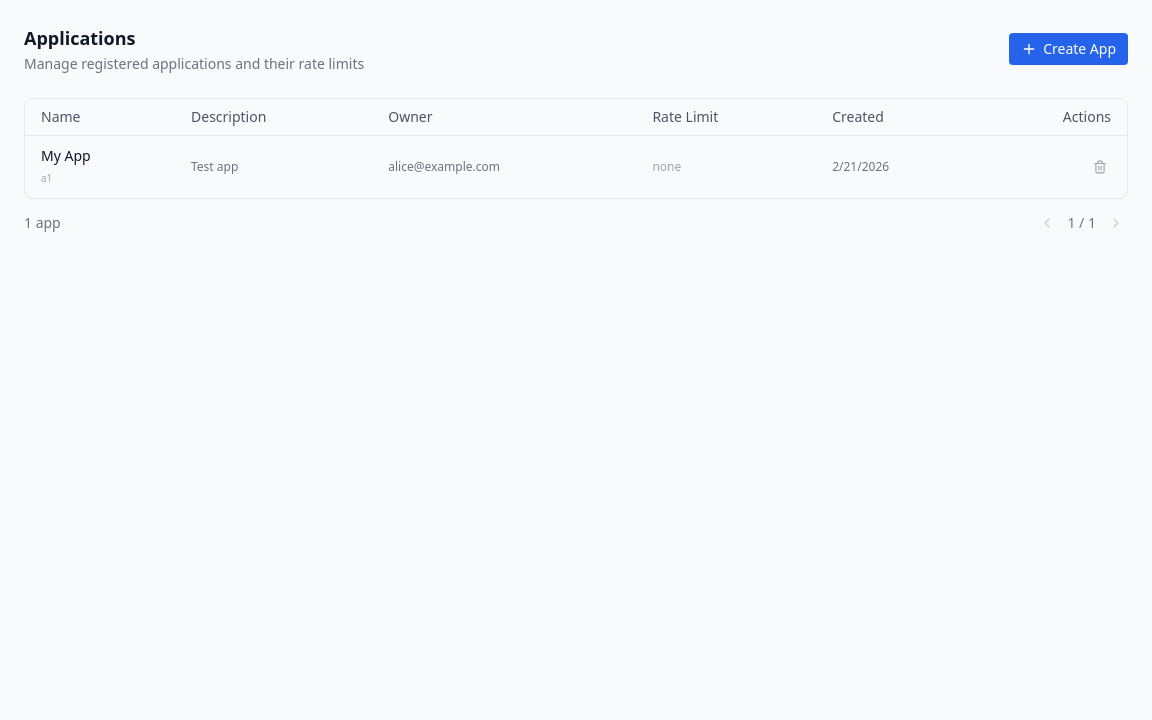
it: Apps › cancel on delete dialog closes it
The image size is (1152, 720).
Expected: the text "My App" is shown, x1=41 y1=146 x2=91 y2=165
Step 1. Click the button titled "Delete app" → (1100, 167), box x1=1089 y1=156 x2=1111 y2=178
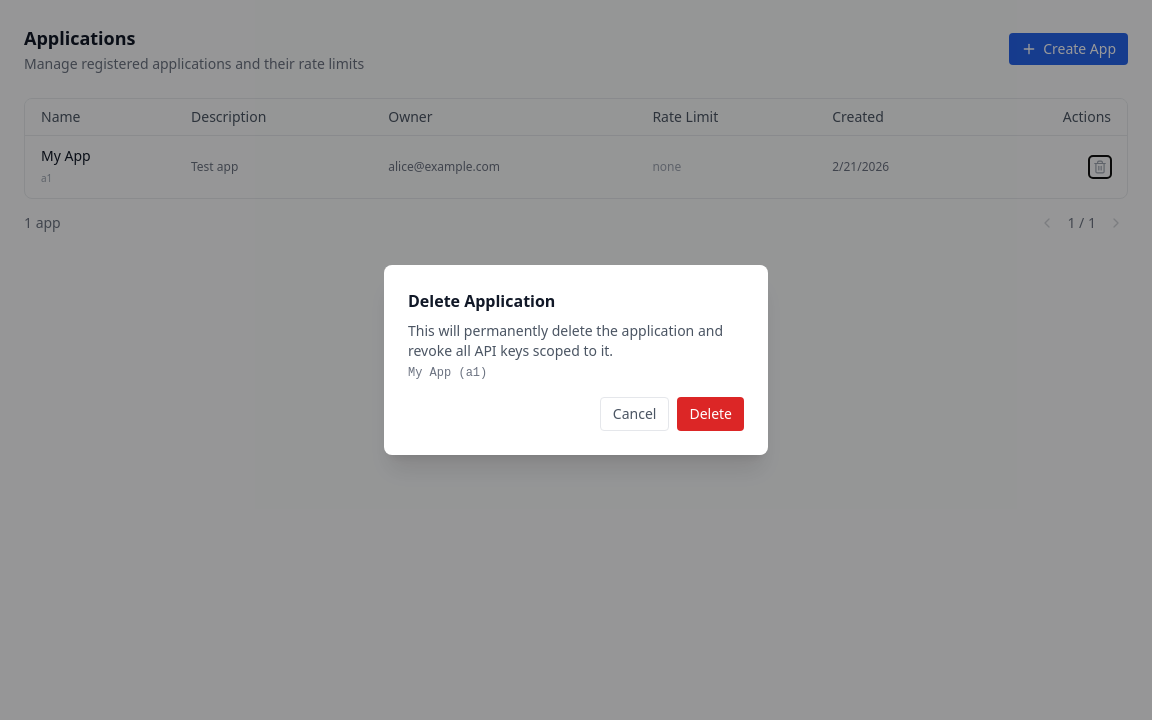
Result: the heading "Delete Application" is shown at x1=408 y1=290 x2=555 y2=312
Step 2. Click the button "Cancel" → (635, 414), box x1=600 y1=397 x2=669 y2=431
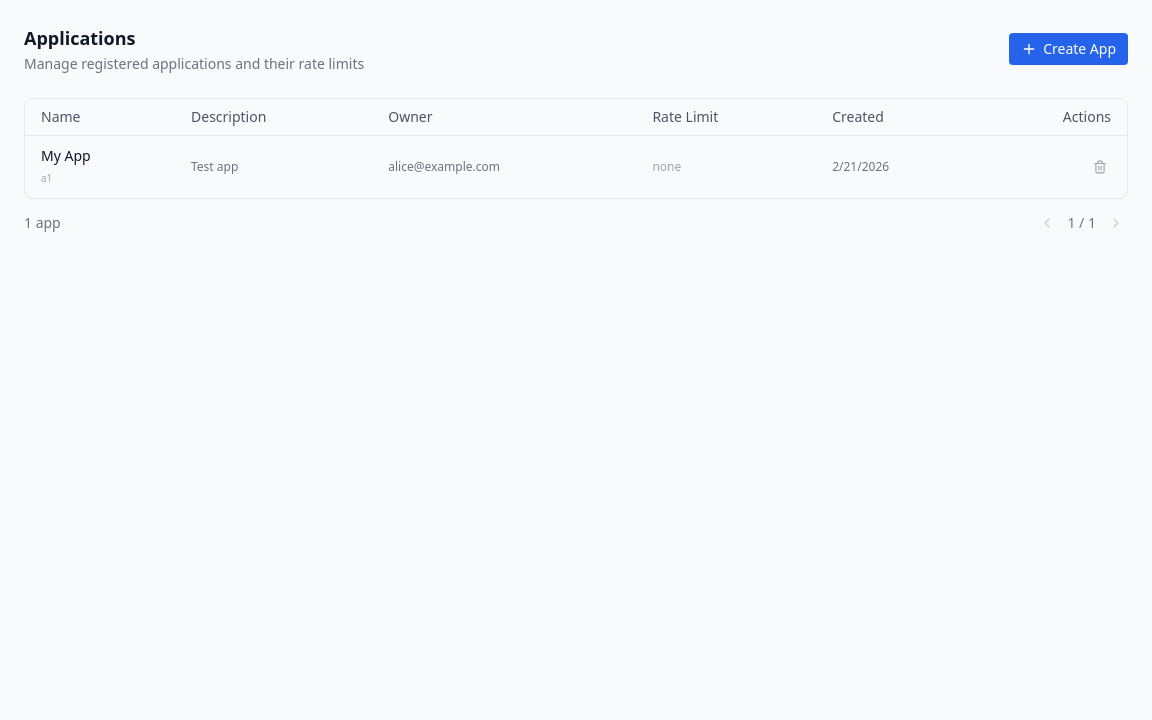
Result: the heading "Delete Application" is gone
